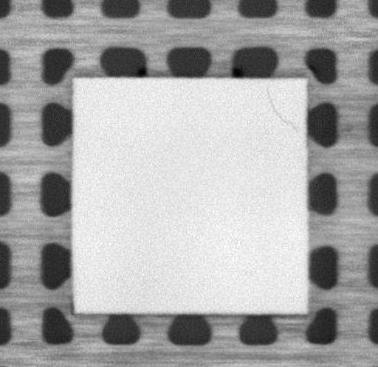DIE_CRACK: (266, 88, 299, 130)
